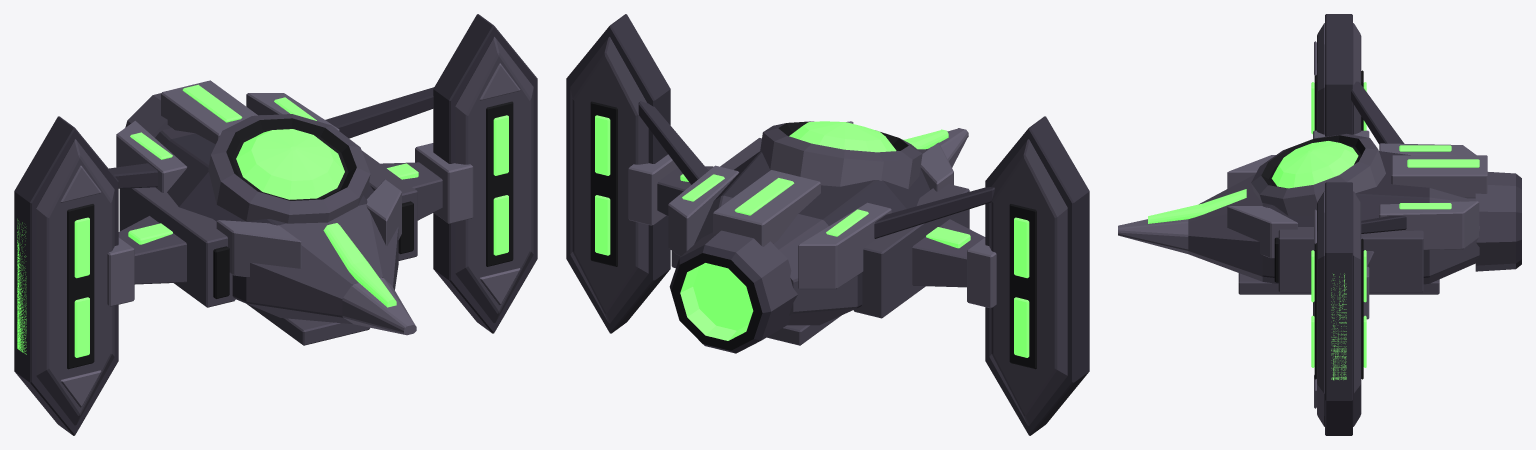
The model's file is alien-panels.glb.
3 renders of one model, left to right at view 1: azimuth 30°, elevation 25°; view 2: azimuth 150°, elevation 25°; view 3: azimuth 270°, elevation 25°, orthographic. The views are drawn at different scales.
Visible parts, largest first — view 1: Alien4; view 2: Alien4; view 3: Alien4.
Boxes of the visible parts, x1,y1,x2,y2 form: Alien4: (14,14,537,435); Alien4: (566,14,1089,435); Alien4: (1118,14,1521,435).
Size of the model in its own units: 2.4 by 1.39 by 2.01.
